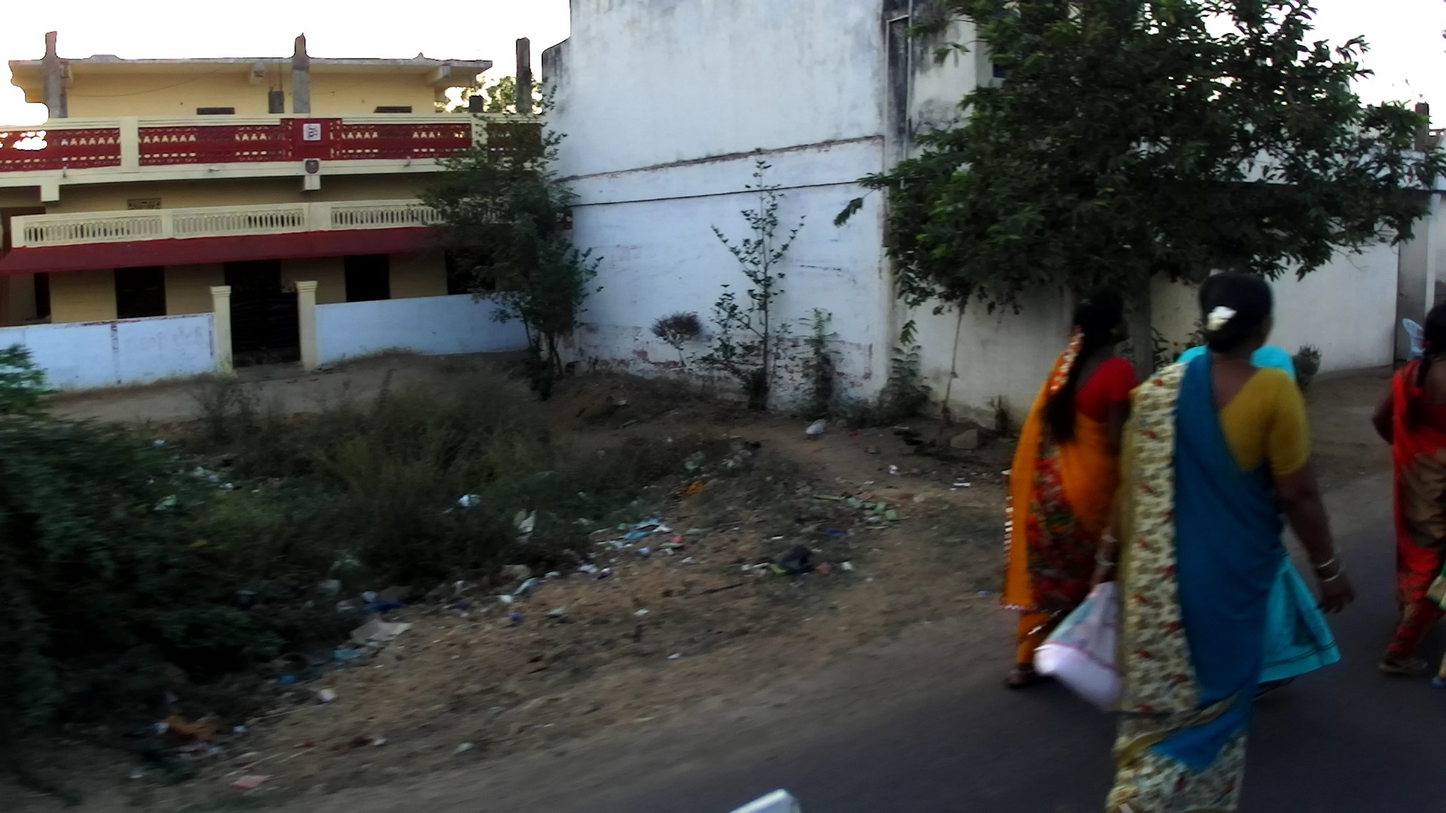person: (1033, 272, 1357, 813), (1174, 282, 1340, 702), (998, 294, 1138, 691), (1371, 305, 1446, 678)
